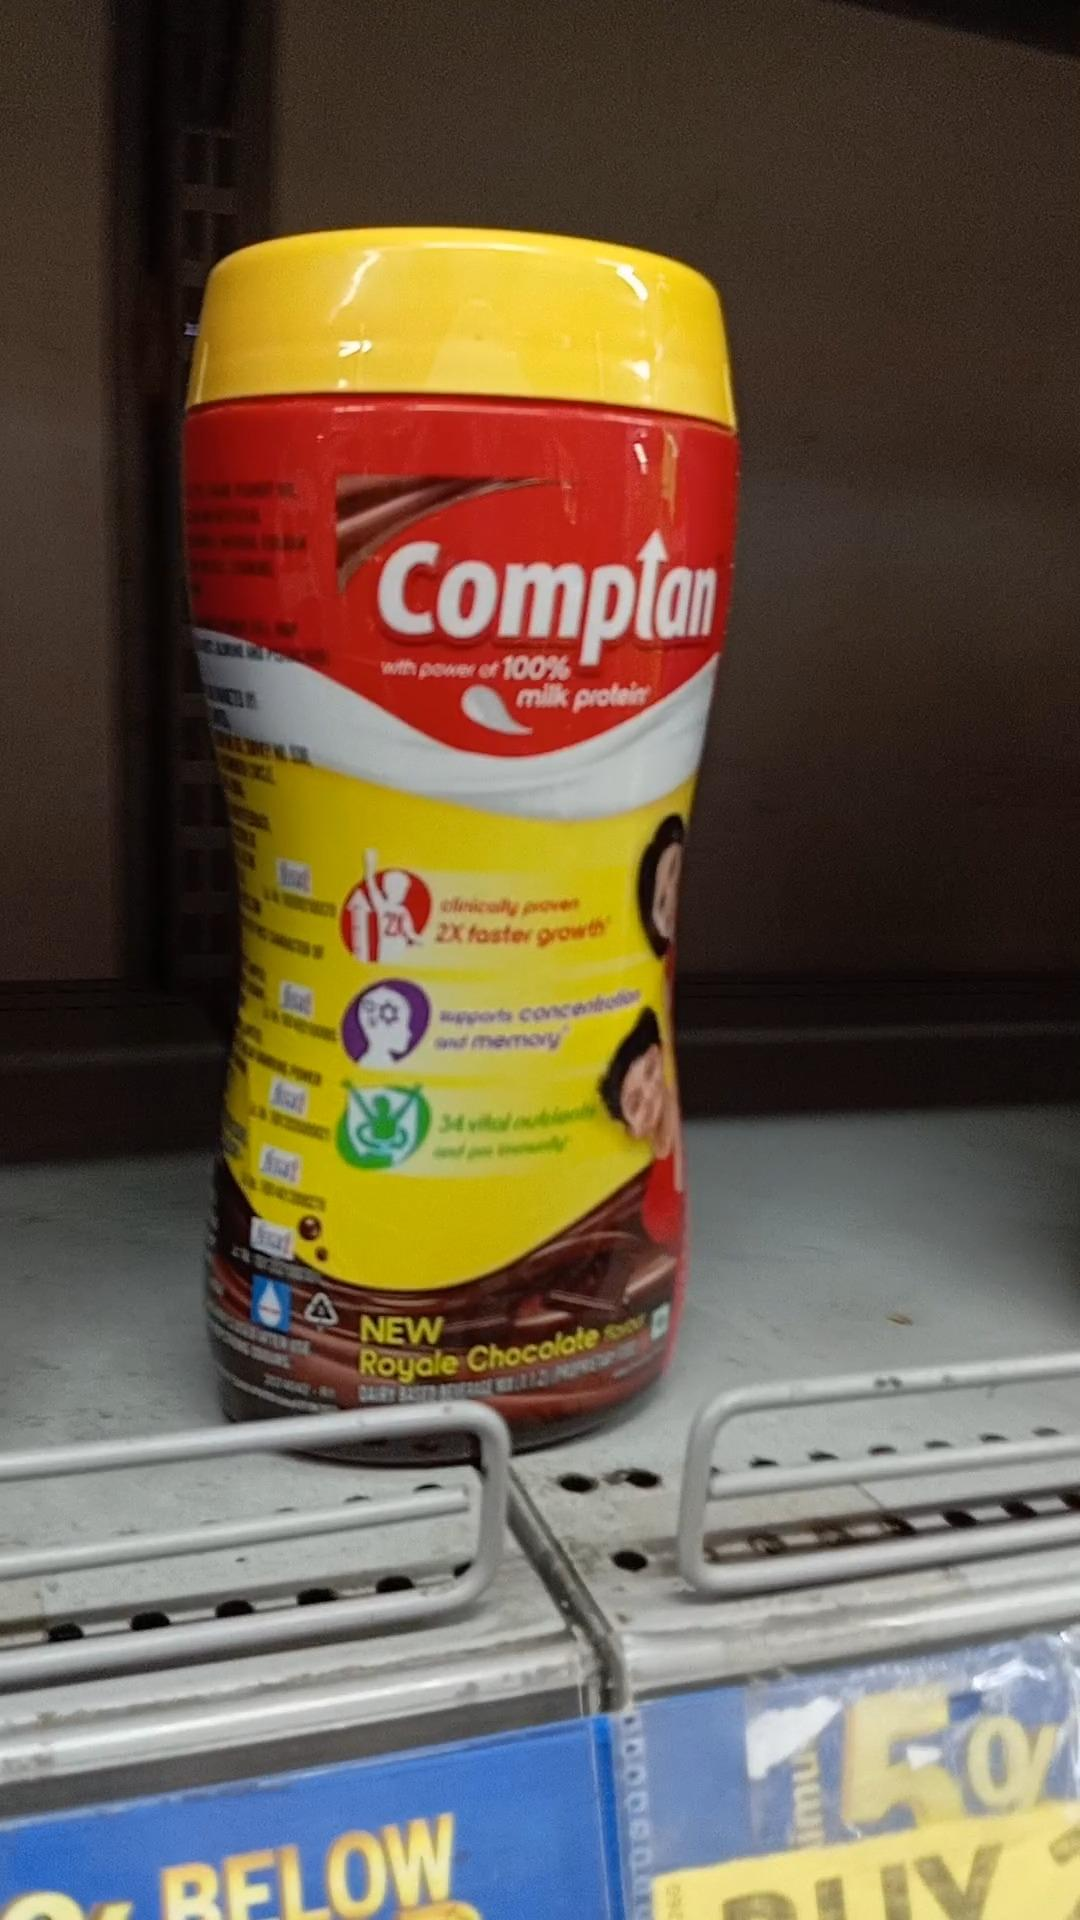COMPLAN_CHOCOLATE_500_GMS_JAR: (195, 204, 695, 1445)
